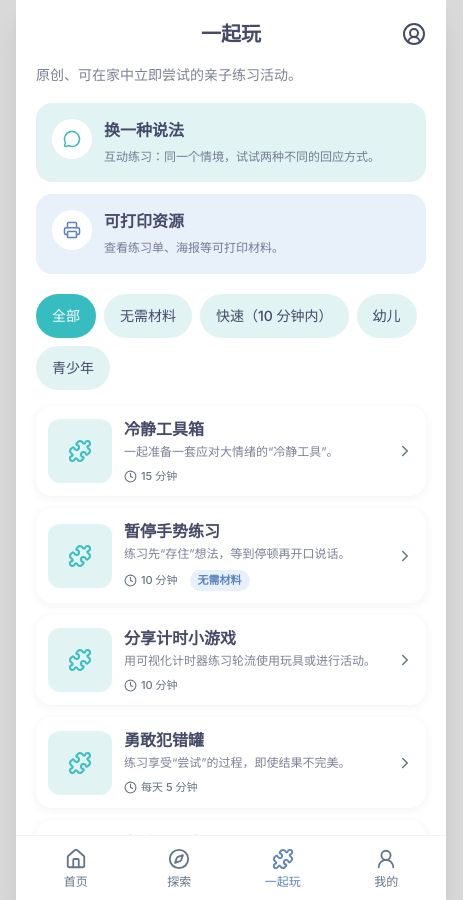
Activities page entry points › navigates to the Language Lab from its entry card
Click the heading "换一种说法" at (144, 130), box [104,122,184,139]
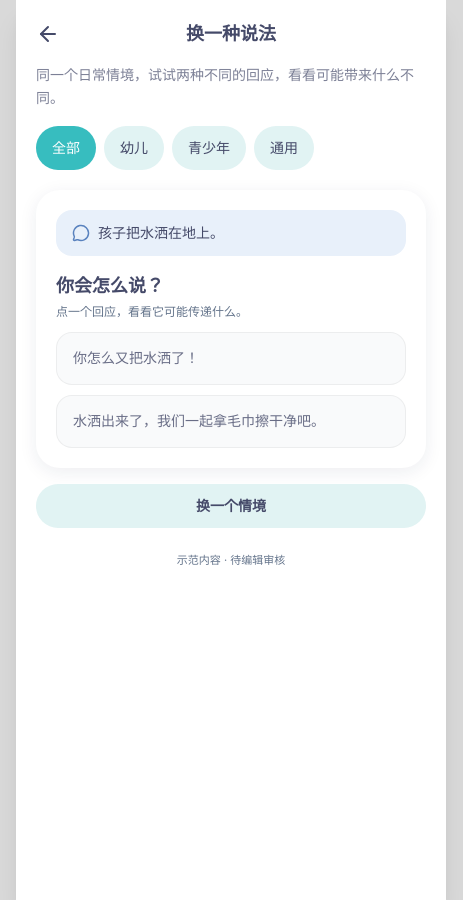
Check: the text "你会怎么说？" is shown, box [56,276,164,296]
